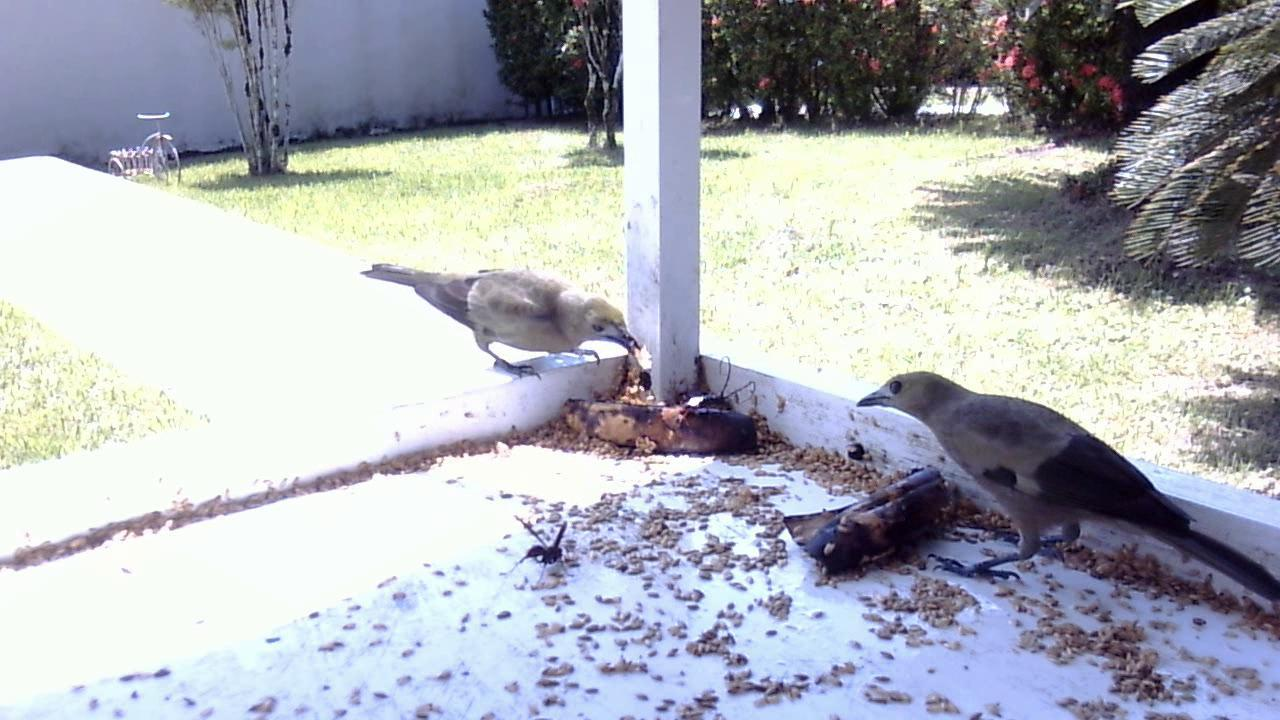sanhaco_do_coqueiro: (833, 363, 1280, 622), (360, 250, 641, 389)
